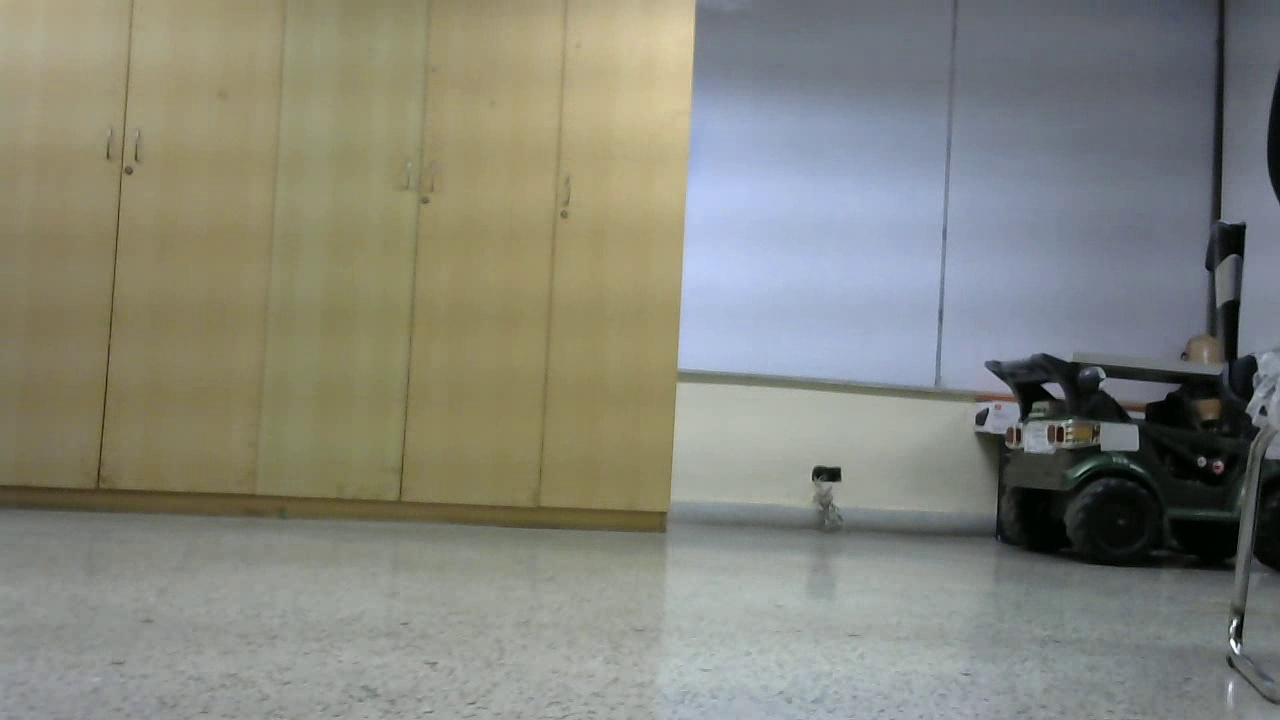chair: (695, 119, 1111, 667), (195, 112, 448, 580)
